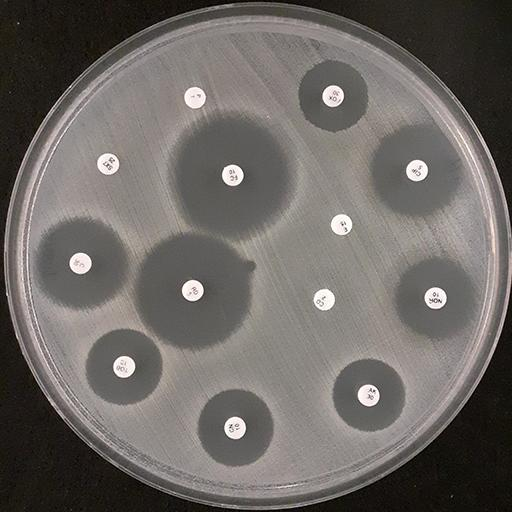disc: (357, 383, 381, 407), (181, 279, 205, 303), (424, 287, 448, 310), (224, 416, 247, 440), (112, 355, 136, 378), (330, 213, 354, 236), (184, 86, 207, 109), (322, 85, 345, 108), (406, 159, 429, 182), (69, 252, 92, 275), (97, 153, 120, 176), (221, 164, 244, 187), (313, 288, 336, 311)
